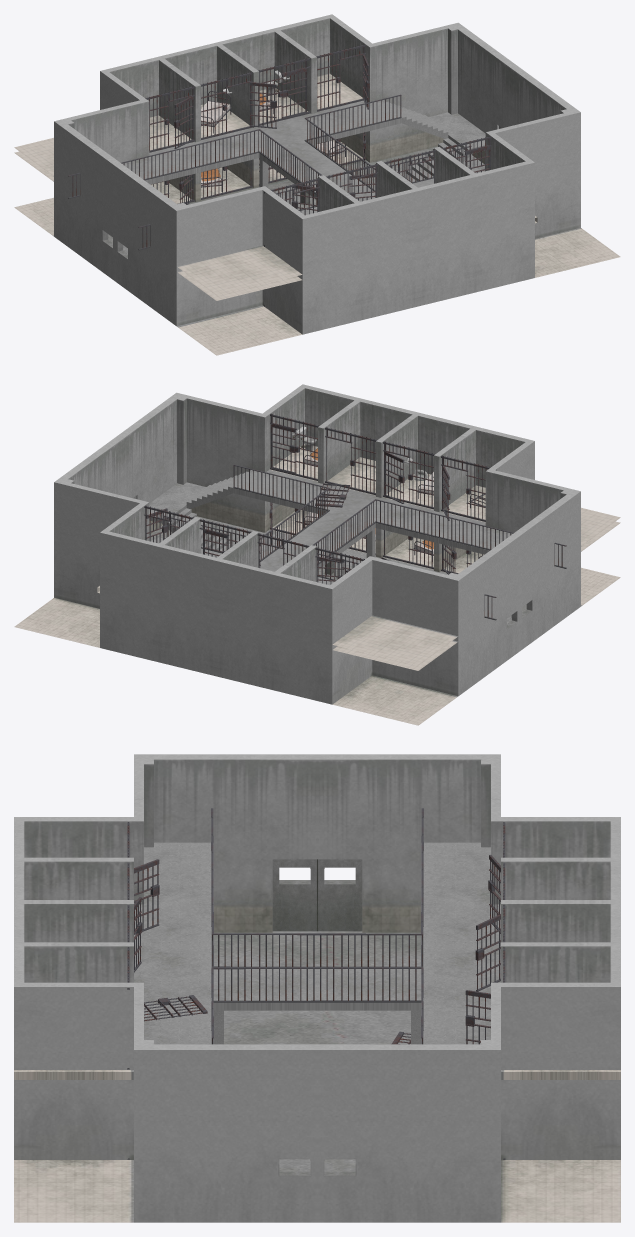
File: build3.glb
The picture shows the model from 3 angles, top to bottom: view 1: azimuth 30°, elevation 25°; view 2: azimuth 150°, elevation 25°; view 3: azimuth 270°, elevation 25°; orthographic projection. The views are drawn at different scales.
Parts seen in each view (by area): view 1: polySurface106, pCube22, pCube1, polySurface72 (×5), pCube18, polySurface115, polySurface125, door (×3), door62628468; view 2: polySurface106, pCube22, pCube1, polySurface72 (×4), door62628468, pCube20, polySurface125, door (×2), polySurface115; view 3: polySurface106, pCube22, pCube1, polySurface125, door (×3), polySurface115, door62628468, pCube31, door626284.
Boxes of the visible parts, x1,y1,x2,y2 form: polySurface106: (54, 14, 580, 334); pCube22: (14, 73, 537, 300); pCube1: (14, 140, 620, 355); polySurface72 (×5): (145, 44, 365, 199); pCube18: (379, 100, 485, 181); polySurface115: (68, 94, 401, 198); polySurface125: (259, 118, 375, 194); door (×3): (174, 68, 306, 148); door62628468: (138, 146, 471, 250); polySurface106: (54, 384, 580, 704); pCube22: (97, 444, 620, 670); pCube1: (14, 510, 620, 725); polySurface72 (×4): (270, 414, 496, 521); door62628468: (233, 464, 566, 568); pCube20: (149, 470, 255, 551); polySurface125: (259, 488, 376, 564); door (×2): (271, 424, 404, 503); polySurface115: (164, 515, 496, 620); polySurface106: (14, 754, 620, 1222); pCube22: (14, 842, 620, 1079); pCube1: (14, 931, 620, 1222); polySurface125: (211, 933, 423, 1002); door (×3): (134, 859, 500, 1021); polySurface115: (421, 808, 423, 1044); door62628468: (211, 808, 213, 1044); pCube31: (214, 1010, 420, 1044); door626284: (465, 990, 490, 1044).
Size of the model in its own units: 18.71 by 5.06 by 15.78.
3 materials, 3 textured.
